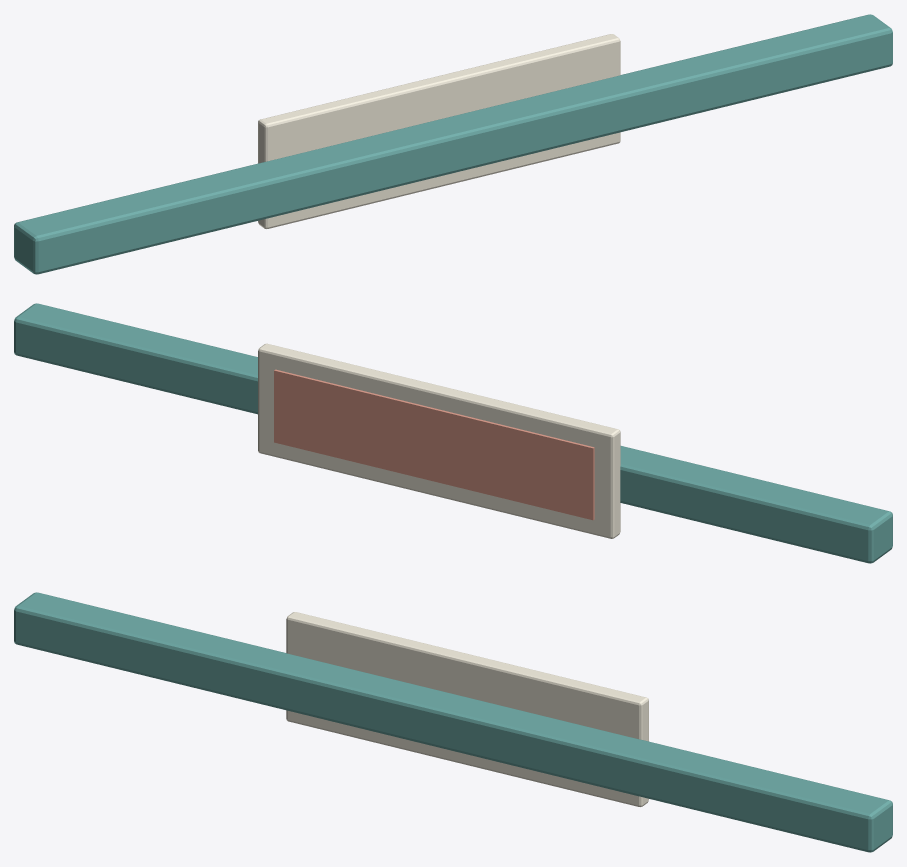
File: gate_lintel.glb
3 renders of one model, top to bottom at view 1: azimuth 30°, elevation 25°; view 2: azimuth 150°, elevation 25°; view 3: azimuth 330°, elevation 25°, orthographic.
Visible parts, largest first — view 1: gate_lintel; view 2: gate_lintel; view 3: gate_lintel.
Boxes of the visible parts, x1,y1,x2,y2 form: gate_lintel: [14, 14, 892, 274]; gate_lintel: [14, 303, 892, 563]; gate_lintel: [14, 592, 892, 852].
Bounding box in the file's own units: 7 × 0.82 × 0.44.
